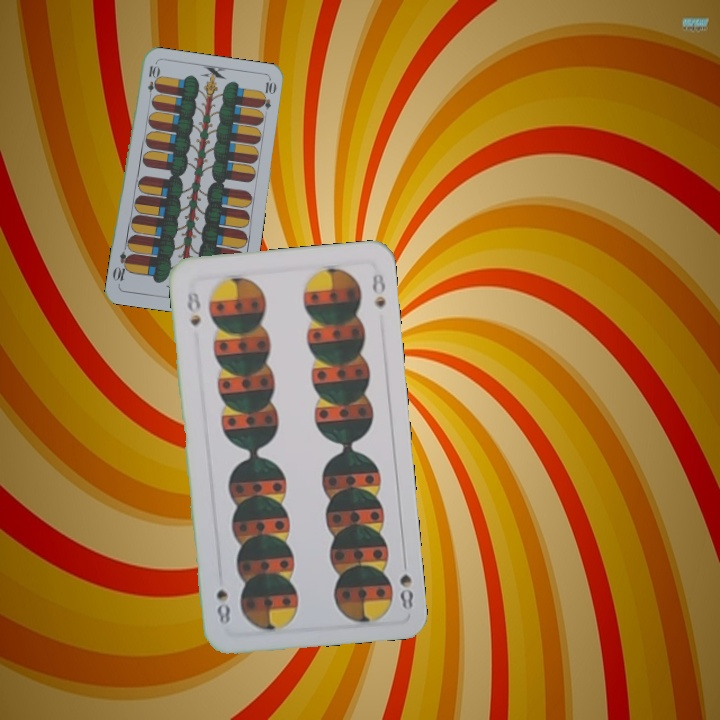E10: (143, 62, 160, 102)
S8: (396, 553, 416, 612), (183, 285, 203, 329)
